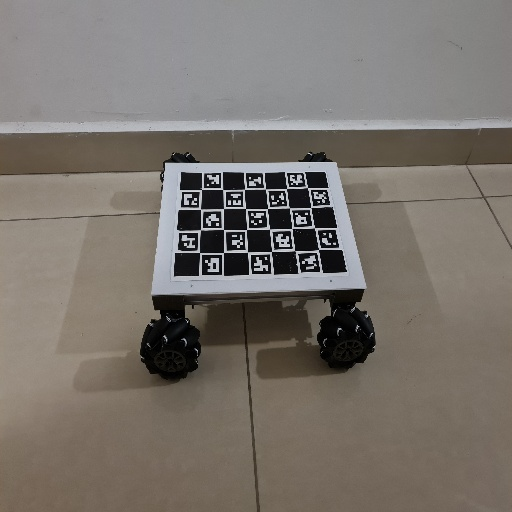Omniwheel: (138, 151, 379, 384)
